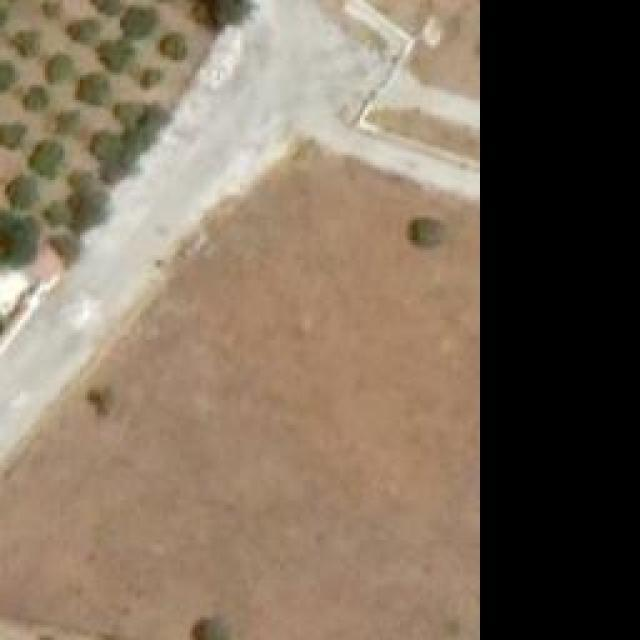Tree: (65, 170, 113, 230), (0, 210, 41, 269), (193, 0, 253, 35), (185, 613, 232, 640), (47, 230, 81, 267), (408, 215, 441, 250), (27, 140, 65, 170), (88, 382, 119, 416), (93, 133, 123, 168), (115, 100, 155, 125), (8, 175, 38, 208), (98, 42, 133, 70), (78, 75, 111, 103), (8, 30, 43, 55), (125, 7, 155, 35), (65, 18, 100, 41), (43, 200, 68, 229), (45, 55, 73, 80), (160, 33, 185, 58), (23, 85, 48, 108), (0, 125, 28, 145), (55, 113, 80, 133), (88, 0, 121, 15), (42, 0, 60, 15), (142, 70, 160, 85)
